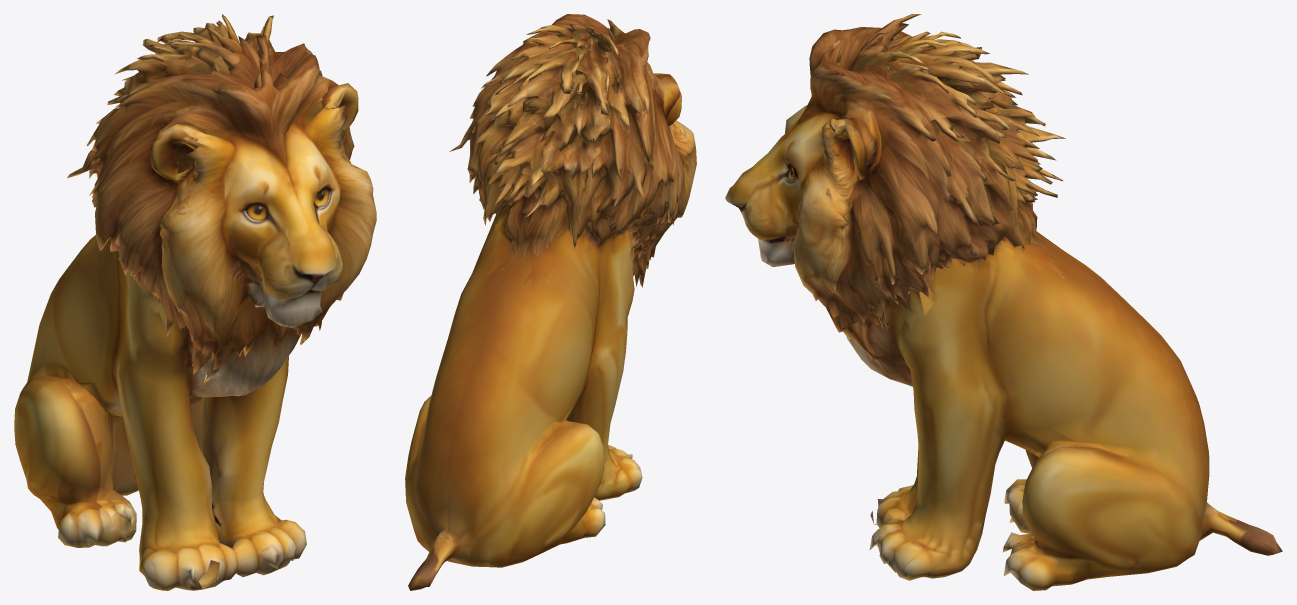
File: lion.glb
3 renders of one model, left to right at view 1: azimuth 30°, elevation 25°; view 2: azimuth 150°, elevation 25°; view 3: azimuth 270°, elevation 25°, orthographic. The views are drawn at different scales.
Size of the model in its own units: 31665 by 65467 by 63860.
1 material, 1 textured.
